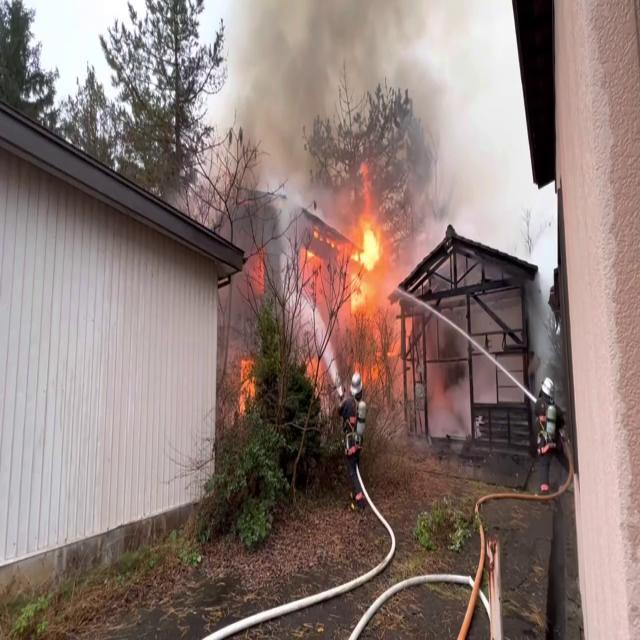Fire: (292, 206, 384, 326)
Smoke: (208, 0, 493, 215)
